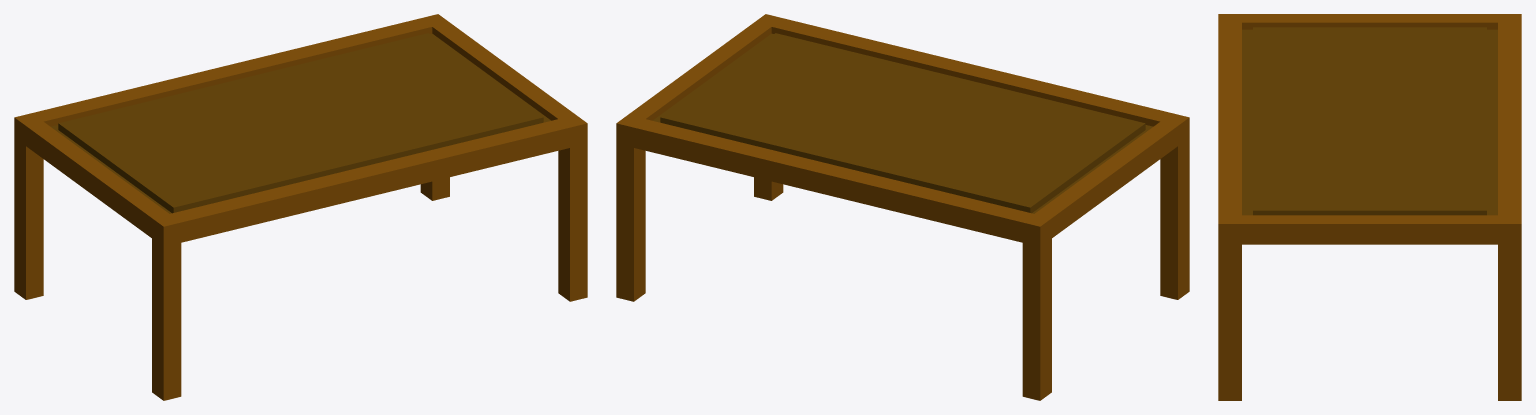
Rendered from Table.fbx.
The picture shows the model from 3 angles, left to right: view 1: azimuth 30°, elevation 25°; view 2: azimuth 150°, elevation 25°; view 3: azimuth 270°, elevation 25°; orthographic projection.
Visible parts, largest first — view 1: Table; view 2: Table; view 3: Table.
Boxes of the visible parts, left/top/right/bottom form: Table: left=14, top=14, right=587, bottom=400; Table: left=616, top=14, right=1189, bottom=400; Table: left=1218, top=14, right=1521, bottom=400.
Size of the model in its own units: 213 by 130 by 83.79.
